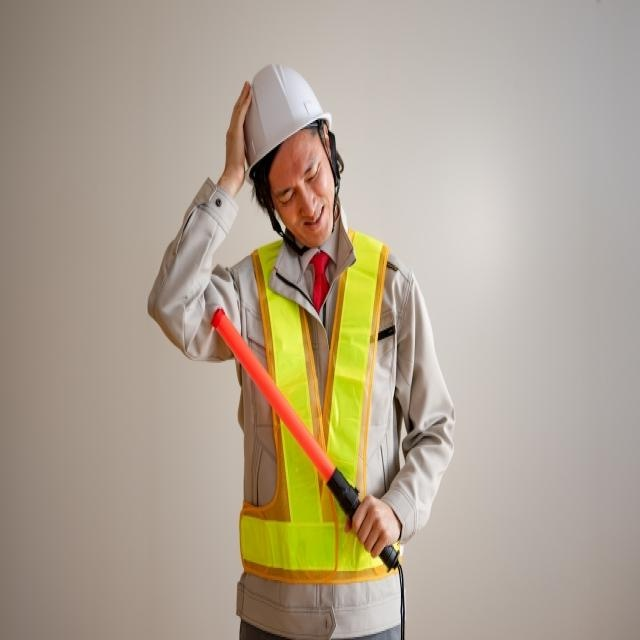Con_Casco: (243, 61, 342, 234)
Con_Chaleco: (237, 234, 399, 586)
